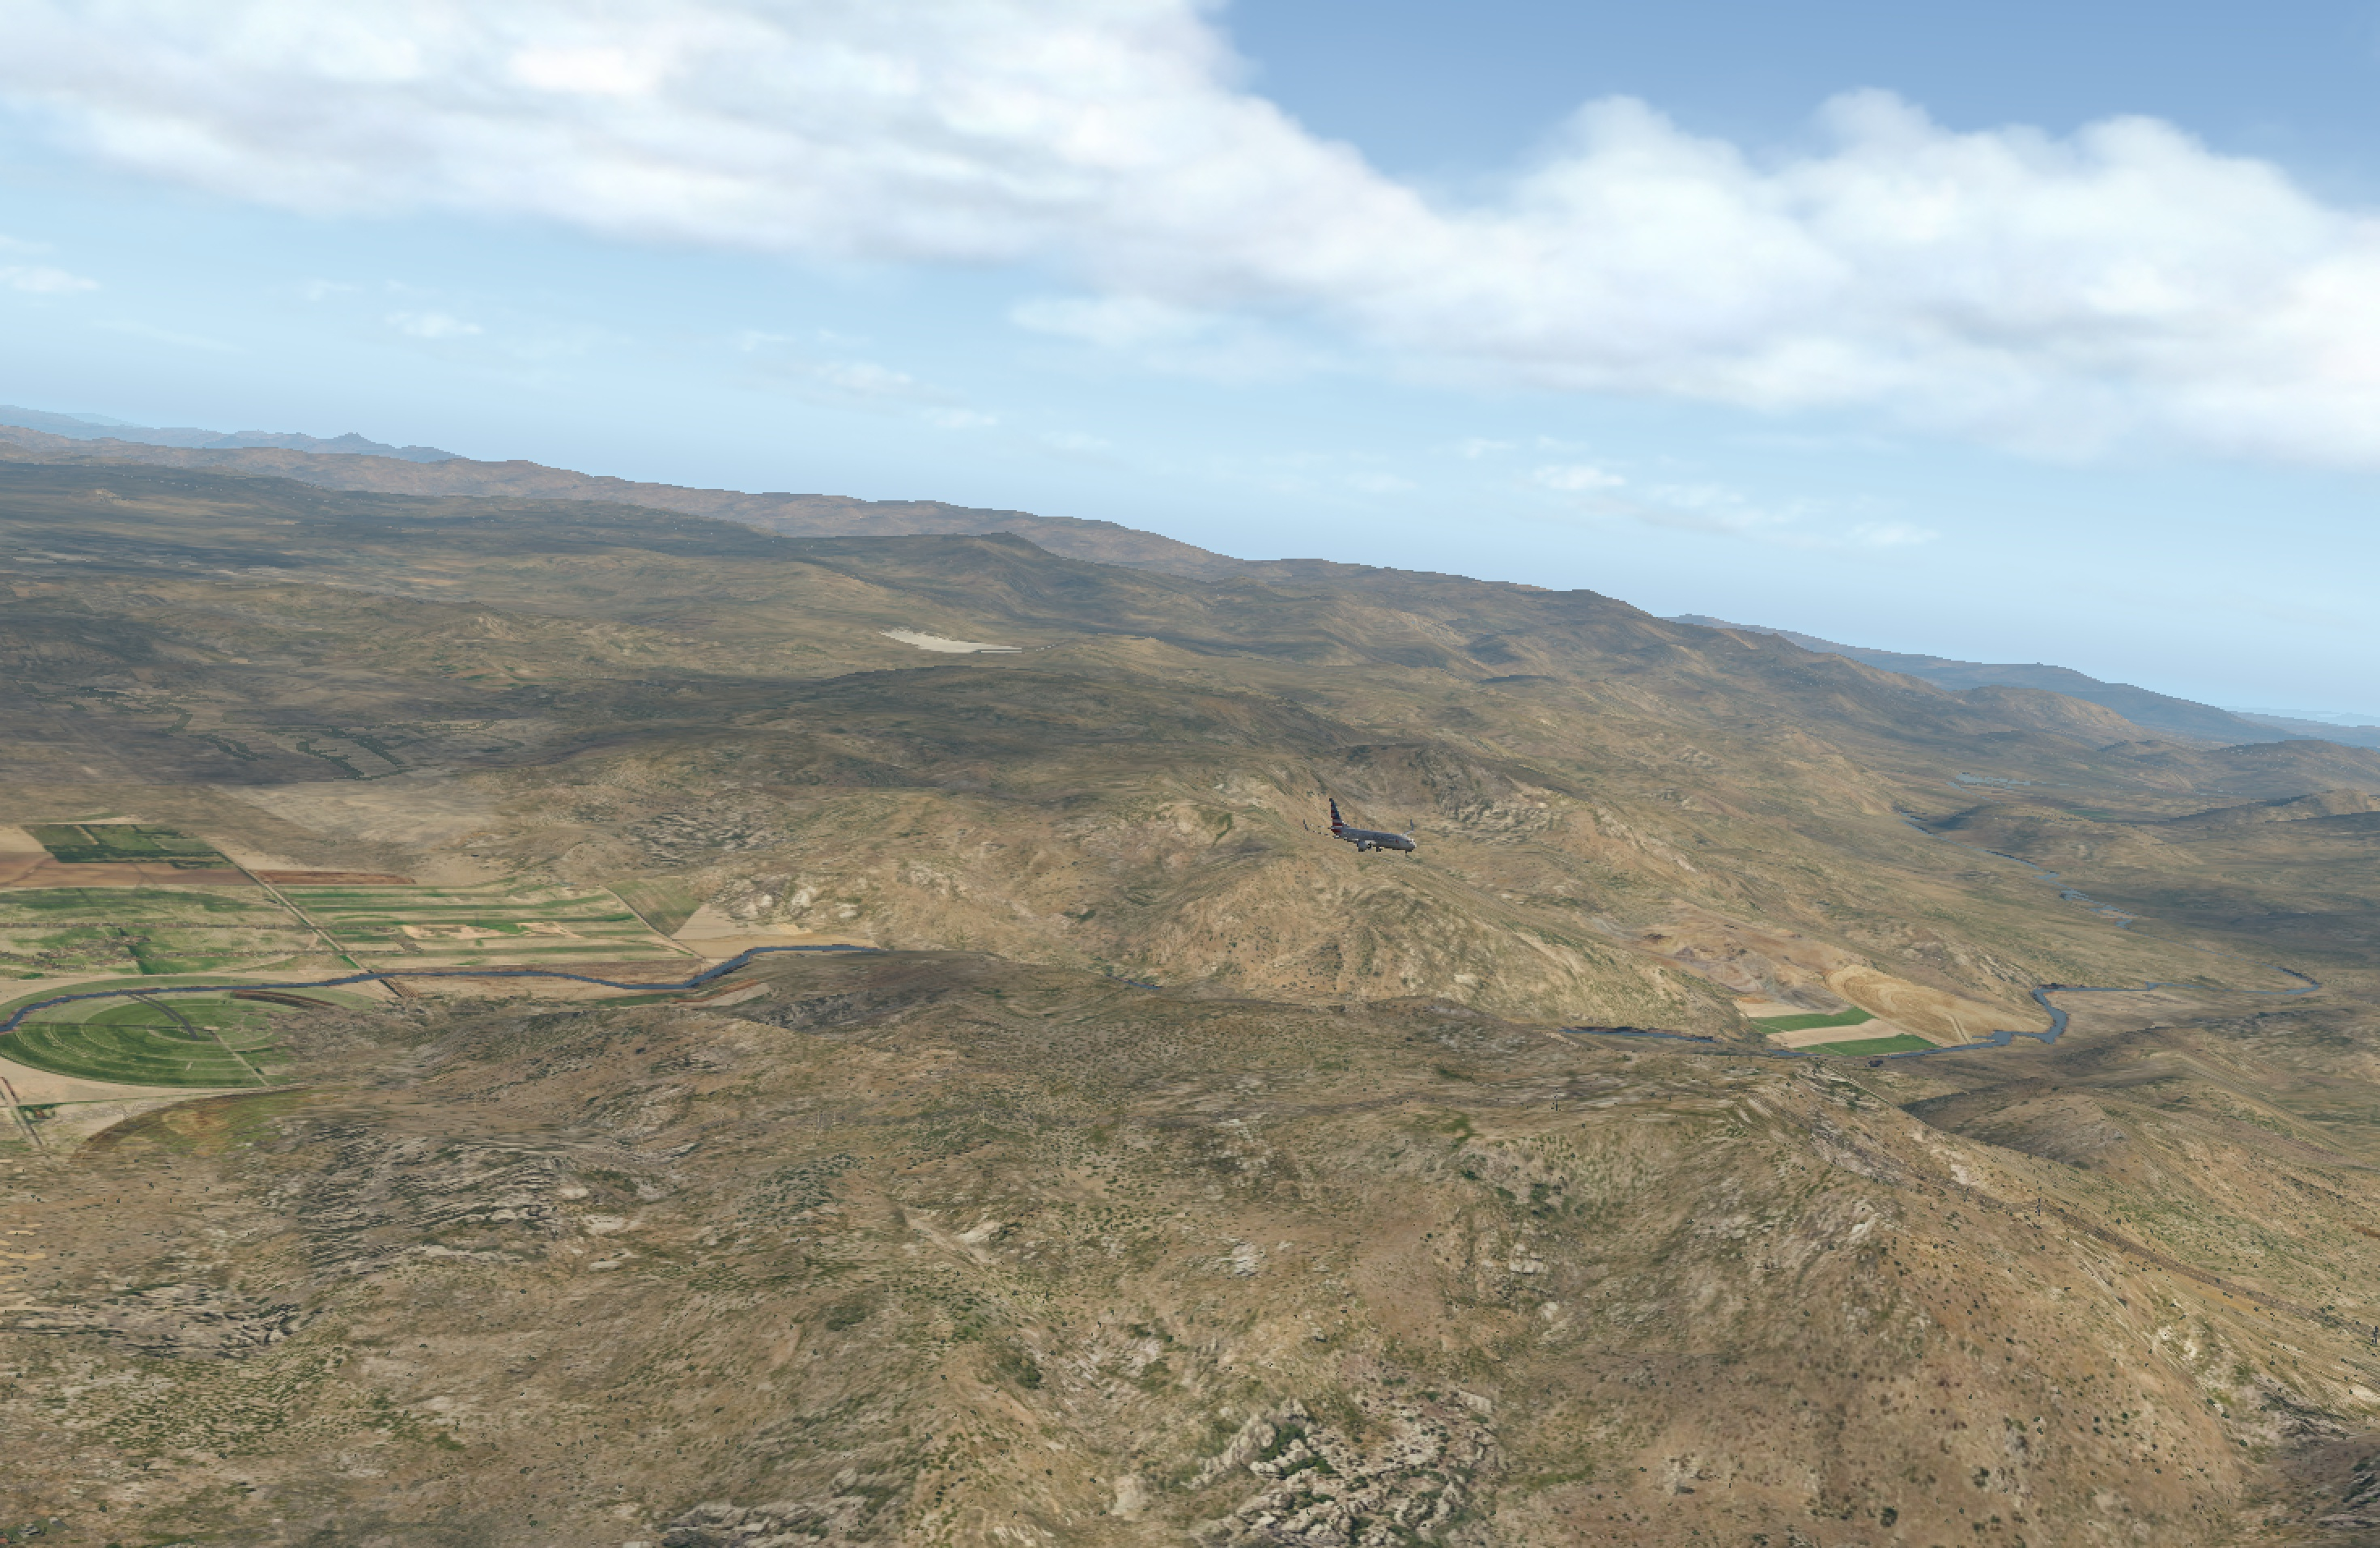aircraft: (1299, 812, 1448, 869)
